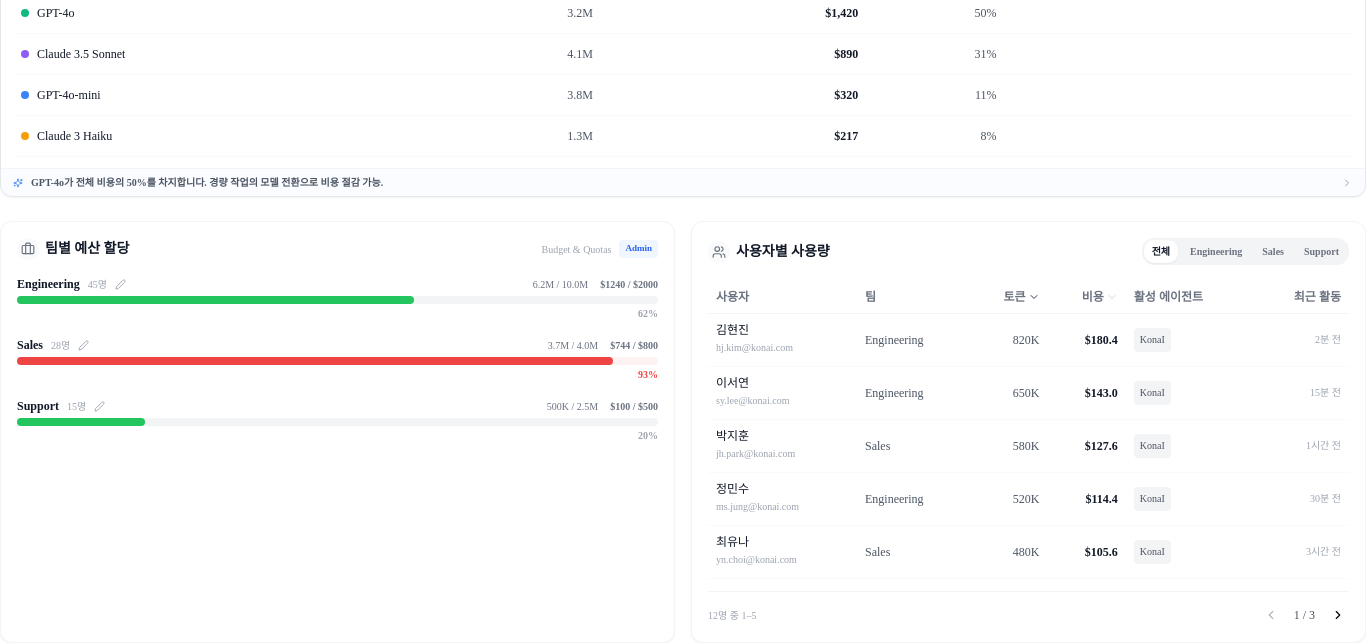
Scenario: QA: UserUsageTable pagination edge cases › shows correct count text on each page
The image size is (1366, 643).
(page scrolled)
Expected: the text "12명 중 1–5" is shown, [708, 608, 756, 622]
Navigate to page 2: "12명 중 6–10"
Click the button named "다음 페이지" at (1338, 615), box [1327, 604, 1349, 626]
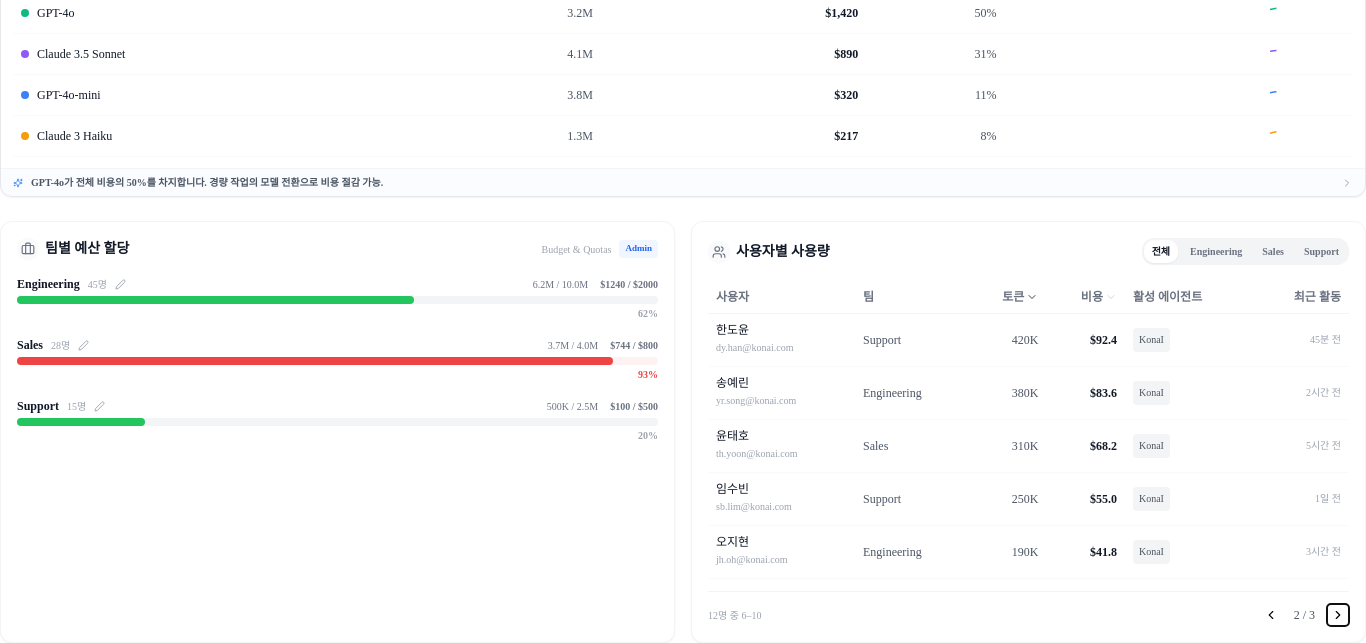
Expected: the text "12명 중 6–10" is shown, [708, 608, 761, 622]
Navigate to page 3: "12명 중 11–12"
Click the button named "다음 페이지" at (1338, 615), box [1327, 604, 1349, 626]
(page scrolled)
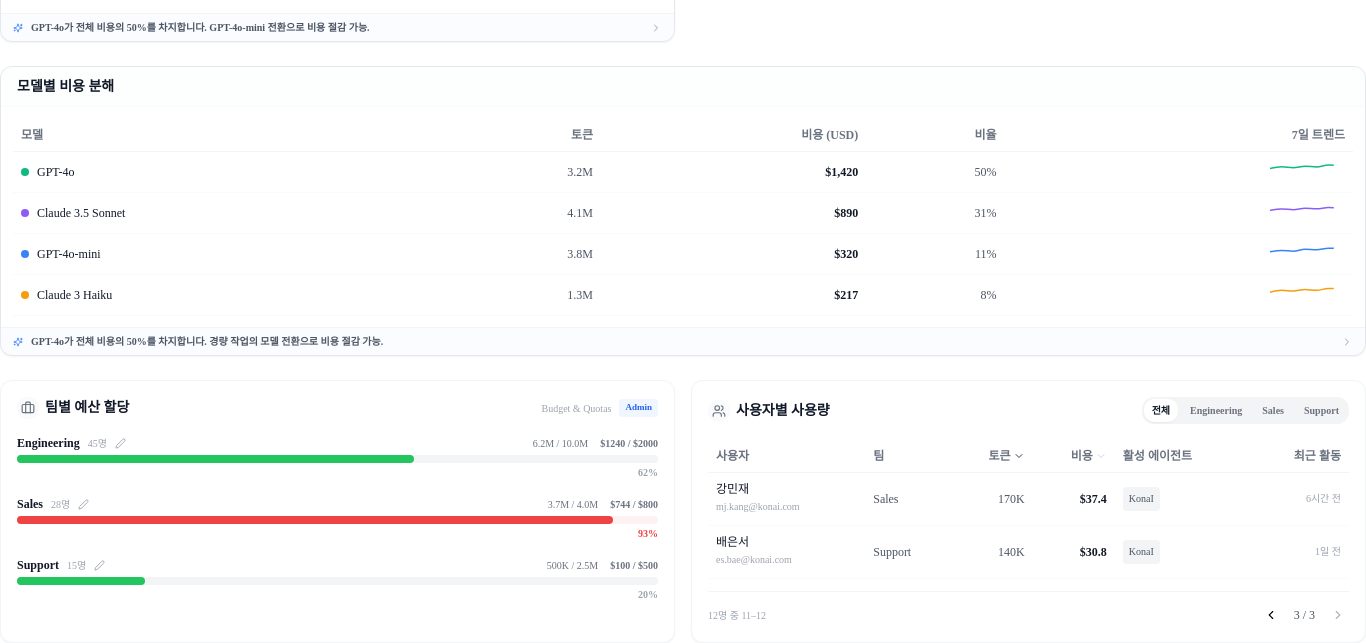
Expected: the text "12명 중 11–12" is shown, [708, 608, 766, 622]
